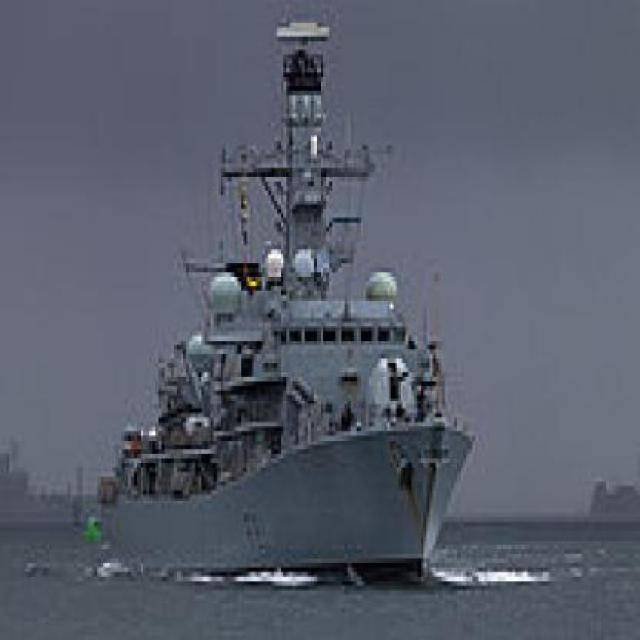warship2: (79, 1, 498, 592)
